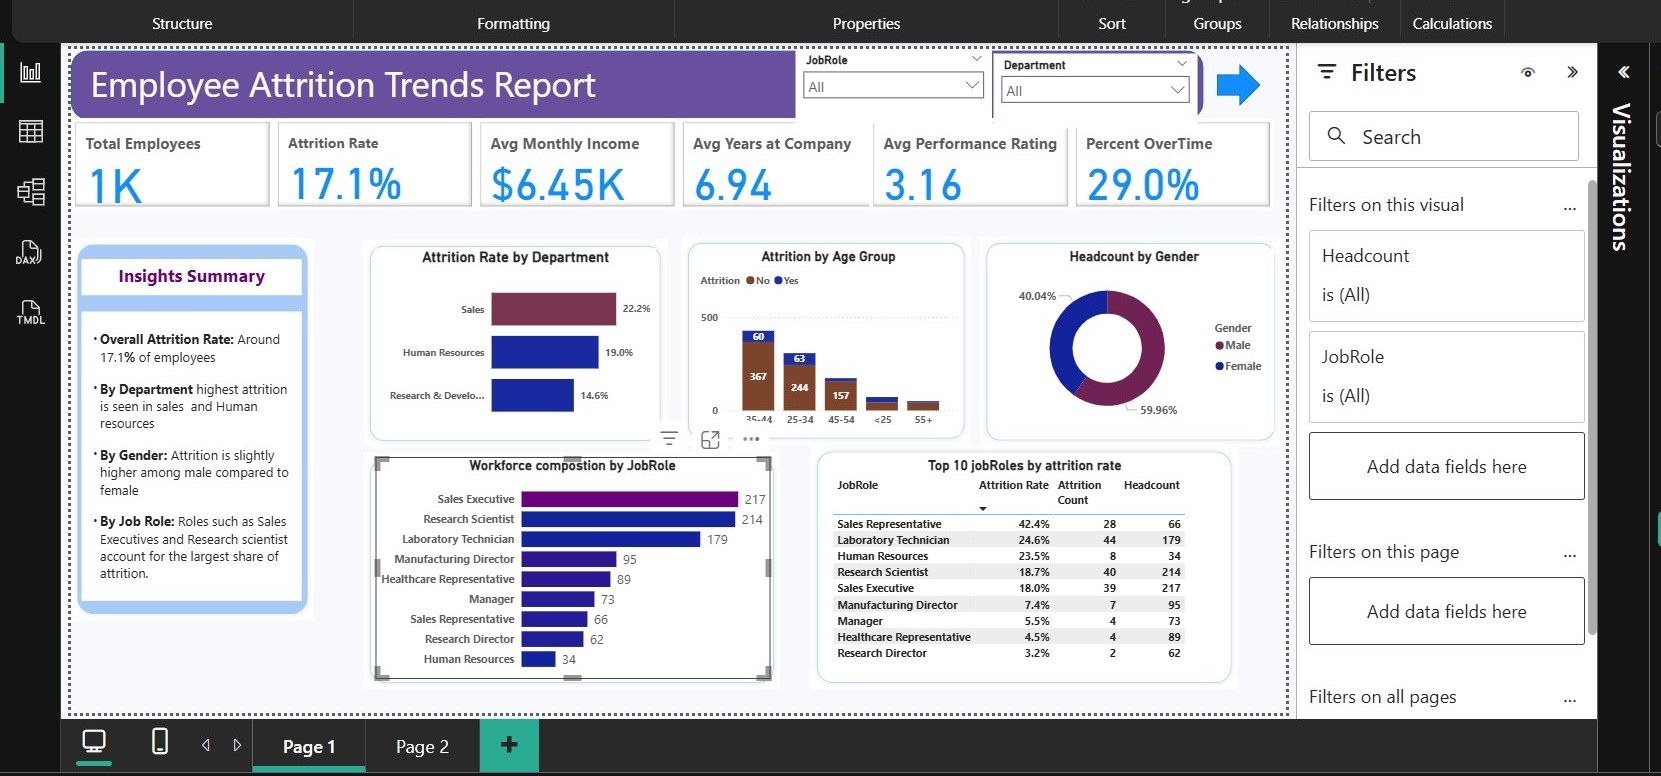

The page's visual inventory and layout, read from the dashboard file:
{"tool":"powerbi","page":{"name":"Page 1","canvas":[1500,820],"ordinal":0},"visuals":[{"type":"cardVisual","fields":{"Data":["Data.Percent OverTime"]},"box":[1235.6,85.2,250.1,114.9],"z":0},{"type":"shape","box":[0,1.9,1398.6,85.2],"z":1000},{"type":"shape","box":[0,233.4,300.1,472.4],"z":2000},{"type":"shape","box":[361.7,235,375,256.7],"z":3000},{"type":"shape","box":[753.9,231.6,357.5,257.5],"z":4000},{"type":"shape","box":[1123.3,231.7,371.7,260],"z":5000},{"type":"shape","box":[361.2,498.3,515,292.7],"z":6000},{"type":"shape","box":[913.3,489,527.9,301.9],"z":7000},{"type":"cardVisual","fields":{"Data":["Data.Total Employees"]},"box":[0,85.2,250.1,114.9],"z":8000},{"type":"cardVisual","fields":{"Data":["Data.Attrition Rate"]},"box":[250.1,85.2,250.1,114.9],"z":9000},{"type":"cardVisual","fields":{"Data":["Data.Avg Monthly Income"]},"box":[500.2,85.2,250.1,114.9],"z":10000},{"type":"cardVisual","fields":{"Data":["Data.Avg Years at Company"]},"box":[750.2,85.2,250.1,114.9],"z":11000},{"type":"cardVisual","fields":{"Data":["Data.Avg Performance Rating"]},"box":[985.3,85.7,251.2,114.9],"z":12000},{"type":"clusteredBarChart","fields":{"Category":["Data.Department"],"Y":["Data.Attrition Rate"]},"box":[376,246.4,346.4,229.7],"z":13000},{"type":"columnChart","title":"Attrition by Age Group ","fields":{"Series":["Data.Attrition"],"Y":["Data.Headcount"],"Category":["Data.Age Group"]},"box":[772.5,246.4,326,229.7],"z":14000},{"type":"tableEx","title":"Top 10 jobRoles by attrition rate","fields":{"Values":["Data.JobRole","Data.Attrition Rate","Data.Attrition Count","Data.Headcount"]},"box":[935.5,503.9,485.3,263],"z":15000},{"type":"clusteredBarChart","title":"Workforce compostion by JobRole","fields":{"Category":["Data.JobRole"],"Y":["Data.Headcount"]},"box":[376,503.9,487.2,274.2],"z":16000},{"type":"donutChart","fields":{"Y":["Data.Headcount"],"Category":["Data.Gender"]},"box":[1141.5,245.7,344.4,226.4],"z":17000},{"type":"textbox","box":[13,259.3,272.3,44.5],"z":18000},{"type":"textbox","box":[13,324.2,272.3,357.5],"z":19000},{"type":"shape","box":[1415.3,18.5,53.7,51.9],"z":20000},{"type":"textbox","box":[7.4,7.4,668.7,70.4],"z":21000},{"type":"slicer","fields":{"Values":["Data.Department"]},"box":[1139.3,5.6,251.9,92.6],"z":22000},{"type":"slicer","fields":{"Values":["Data.JobRole"]},"box":[894.7,0,242.7,92.6],"z":23000}]}

Visuals, with their boxes on the page's 1500x820 design canvas (x1, y1, x2, y2). These are canvas units, not pixel positions in the 1661x776 screenshot, which may show the page scaled, cropped or inside an application window:
cardVisual - Data.Percent OverTime: locate(1236, 85, 1486, 200)
shape: locate(0, 2, 1399, 87)
shape: locate(0, 233, 300, 706)
shape: locate(362, 235, 737, 492)
shape: locate(754, 232, 1111, 489)
shape: locate(1123, 232, 1495, 492)
shape: locate(361, 498, 876, 791)
shape: locate(913, 489, 1441, 791)
cardVisual - Data.Total Employees: locate(0, 85, 250, 200)
cardVisual - Data.Attrition Rate: locate(250, 85, 500, 200)
cardVisual - Data.Avg Monthly Income: locate(500, 85, 750, 200)
cardVisual - Data.Avg Years at Company: locate(750, 85, 1000, 200)
cardVisual - Data.Avg Performance Rating: locate(985, 86, 1236, 201)
clusteredBarChart - Data.Department x Data.Attrition Rate: locate(376, 246, 722, 476)
"Attrition by Age Group " columnChart: locate(772, 246, 1098, 476)
"Top 10 jobRoles by attrition rate" tableEx: locate(936, 504, 1421, 767)
"Workforce compostion by JobRole" clusteredBarChart: locate(376, 504, 863, 778)
donutChart - Data.Headcount x Data.Gender: locate(1142, 246, 1486, 472)
textbox: locate(13, 259, 285, 304)
textbox: locate(13, 324, 285, 682)
shape: locate(1415, 18, 1469, 70)
textbox: locate(7, 7, 676, 78)
slicer - Data.Department: locate(1139, 6, 1391, 98)
slicer - Data.JobRole: locate(895, 0, 1137, 93)
